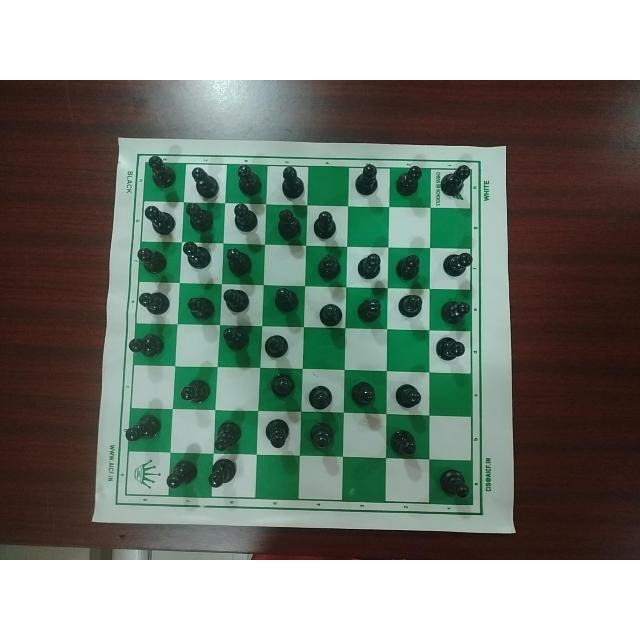black-pawn: (123, 330, 167, 362), (436, 162, 471, 200), (142, 200, 176, 239), (437, 466, 473, 502), (204, 459, 239, 496), (143, 154, 178, 190), (273, 164, 306, 202), (348, 161, 382, 197), (125, 413, 161, 447), (176, 376, 212, 409), (164, 459, 198, 493), (136, 286, 172, 318), (230, 165, 263, 199), (227, 201, 260, 235), (389, 425, 423, 458), (180, 240, 212, 275), (431, 335, 468, 365), (184, 203, 216, 237), (220, 324, 254, 356), (189, 164, 219, 200), (306, 420, 336, 456), (392, 163, 423, 197), (136, 244, 170, 275), (223, 245, 254, 279), (274, 207, 303, 243), (393, 252, 425, 284), (437, 295, 470, 326), (393, 380, 426, 411), (350, 377, 380, 411), (352, 251, 383, 283), (394, 292, 426, 323), (262, 417, 291, 451), (214, 418, 242, 453), (439, 249, 471, 279), (184, 292, 216, 322), (354, 295, 384, 327), (261, 331, 293, 361), (307, 380, 337, 412), (311, 208, 337, 244), (313, 252, 343, 283), (270, 284, 299, 315), (313, 300, 344, 329), (268, 371, 296, 403), (222, 288, 251, 316)
